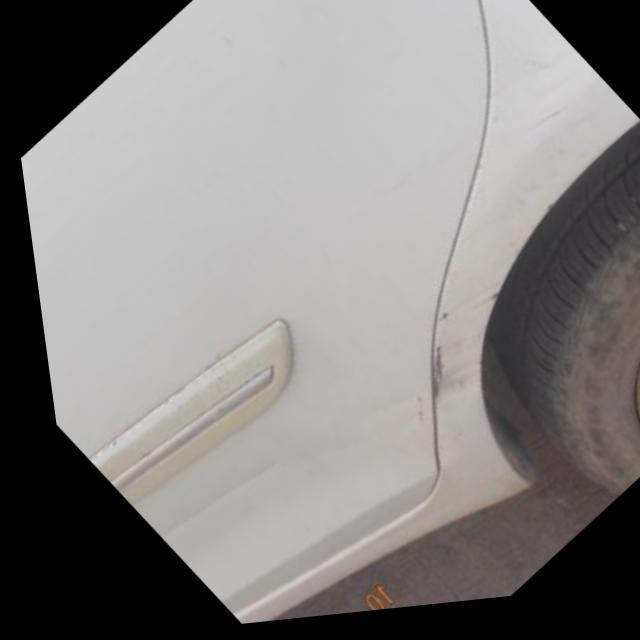crack: (420, 291, 490, 334), (416, 346, 433, 414)
